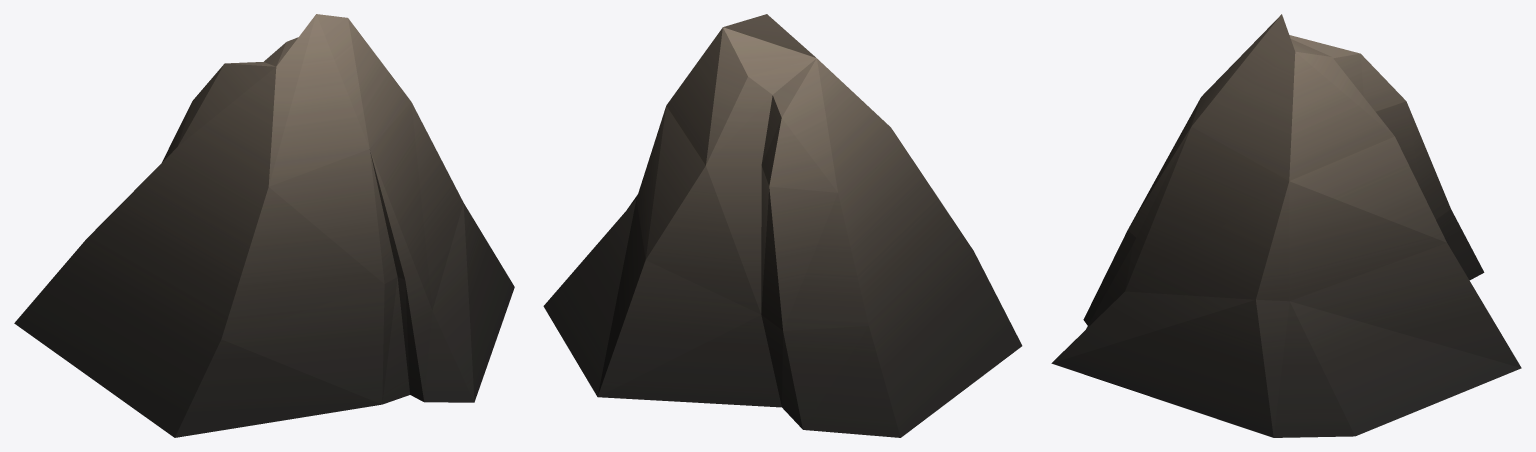
Rendered from mountain02_mdl.FBX.
3 views of the same model, side by side, from view 1: azimuth 30°, elevation 25°; view 2: azimuth 150°, elevation 25°; view 3: azimuth 270°, elevation 25° (orthographic). The views are drawn at different scales.
Visible parts, largest first — view 1: mountain02; view 2: mountain02; view 3: mountain02.
Boxes of the visible parts, x1,y1,x2,y2 form: mountain02: [14, 14, 514, 437]; mountain02: [543, 14, 1022, 437]; mountain02: [1051, 14, 1521, 437].
Size of the model in its own units: 28.58 by 21.9 by 27.4.
Materials: 1 (1 with a texture image).
